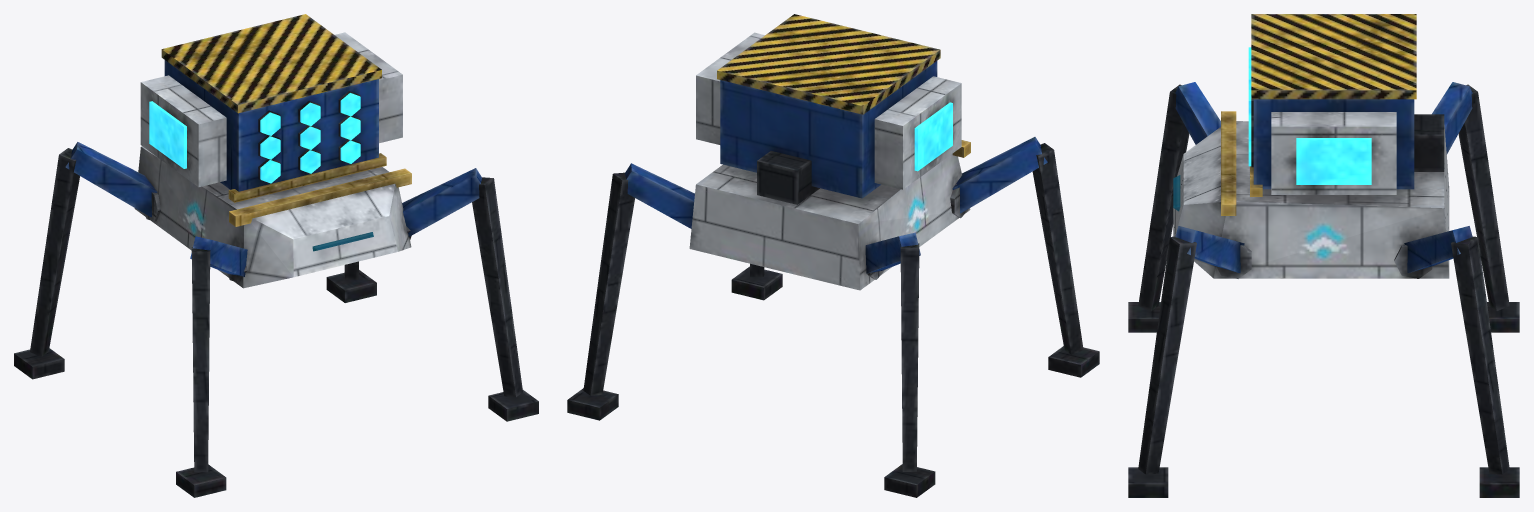
File: u_havoc3_w.glb
3 views of the same model, side by side, from view 1: azimuth 30°, elevation 25°; view 2: azimuth 150°, elevation 25°; view 3: azimuth 270°, elevation 25° (orthographic). The views are drawn at different scales.
Visible parts, largest first — view 1: u_havoc3_w; view 2: u_havoc3_w; view 3: u_havoc3_w.
Boxes of the visible parts, x1,y1,x2,y2 form: u_havoc3_w: (14, 14, 538, 497); u_havoc3_w: (567, 14, 1099, 497); u_havoc3_w: (1128, 14, 1519, 497).
Size of the model in its own units: 2.09 by 1.9 by 1.9.
Materials: 1 (1 with a texture image).
